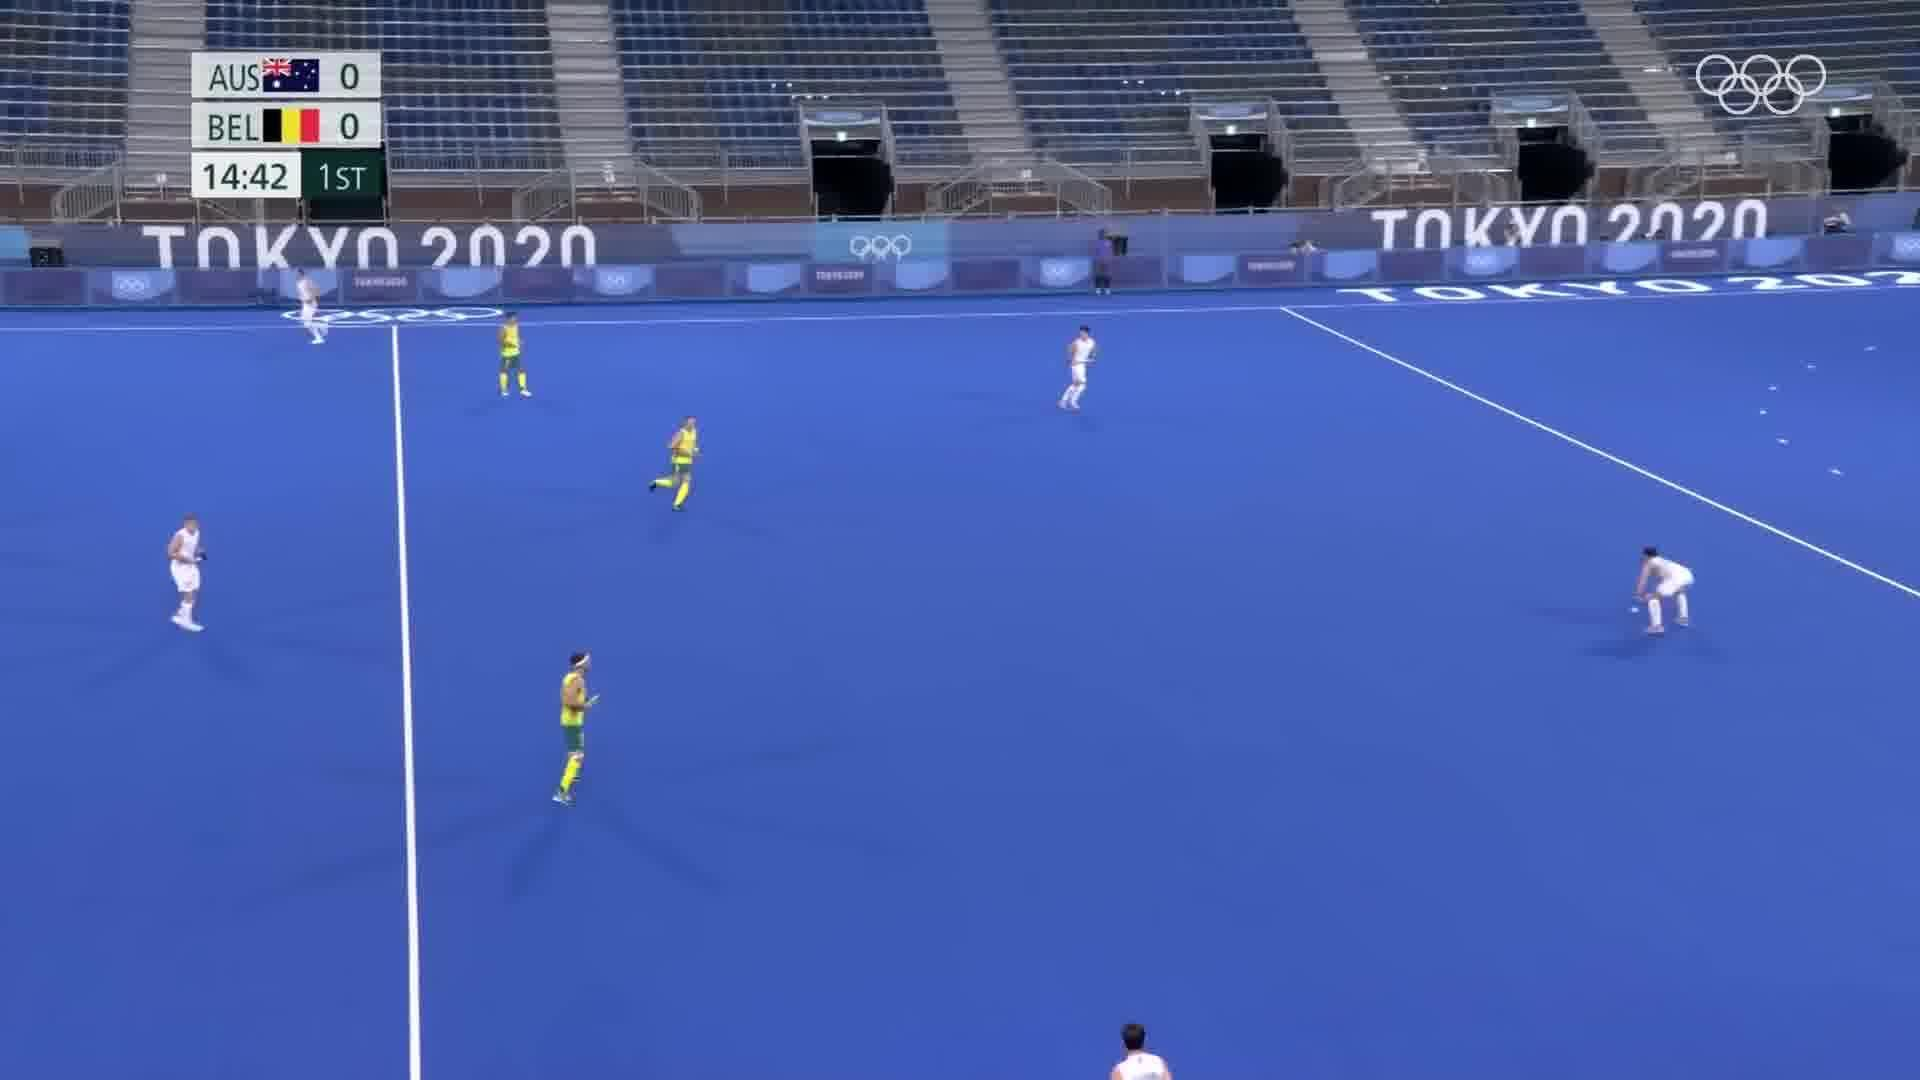ball: (1619, 589, 1647, 622)
